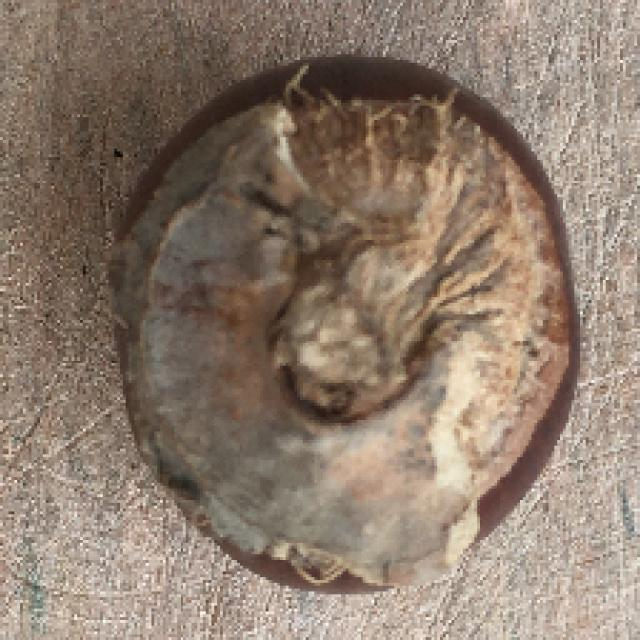damagedHazelnut: (101, 46, 590, 596)
